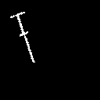double_crochet: (11, 12, 33, 61)
